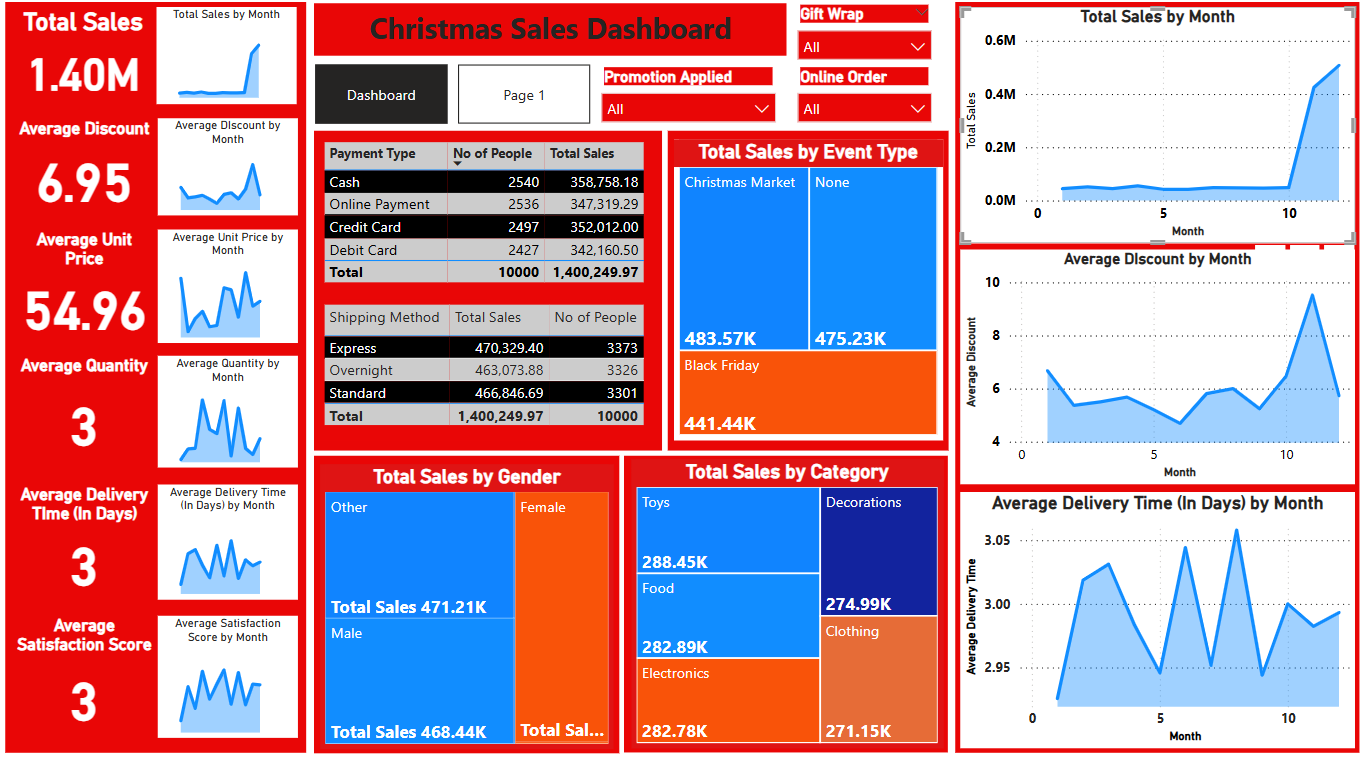

What the dashboard file says about the page in this screenshot:
{"tool":"powerbi","page":{"name":"Dashboard","canvas":[1280,720],"ordinal":0},"visuals":[{"type":"shape","box":[11,9.6,279.9,698.5],"z":0},{"type":"shape","box":[894.7,9.6,376,698.5],"z":1000},{"type":"shape","box":[586.2,431.2,301.2,276.2],"z":2000},{"type":"shape","box":[297.5,128.8,323.8,297.5],"z":3000},{"type":"shape","box":[626.2,128.8,261.2,297.5],"z":4000},{"type":"shape","box":[297.8,430.9,284,277.2],"z":5000},{"type":"card","title":"Total Sales","fields":{"Values":["Sum(dataset.Total Sales)"]},"box":[15.1,13.7,135.8,90.6],"z":6000},{"type":"areaChart","title":"Total Sales by Month","fields":{"Y":["Sum(dataset.Total Sales)"],"Category":["dataset.Month"]},"box":[150.9,13.7,130.4,90.6],"z":7000},{"type":"card","title":"Average Discount","fields":{"Values":["Measure Table.Average Discount"]},"box":[16.5,117,135.8,90.6],"z":8000},{"type":"areaChart","title":"Average DIscount by Month","fields":{"Category":["dataset.Month"],"Y":["Measure Table.Average Discount"]},"box":[152.3,117,130.4,90.6],"z":9000},{"type":"card","title":"Average Unit Price","fields":{"Values":["Measure Table.Average Unit Price"]},"box":[16.5,220.9,135.8,105.7],"z":10000},{"type":"areaChart","title":"Average Unit Price by Month","fields":{"Category":["dataset.Month"],"Y":["Measure Table.Average Unit Price"]},"box":[152.3,220.9,130.4,105.7],"z":11000},{"type":"card","title":"Average Quantity","fields":{"Values":["Measure Table.Average Quantity"]},"box":[16.5,338.9,135.8,104.3],"z":12000},{"type":"areaChart","title":"Average Quantity by Month","fields":{"Category":["dataset.Month"],"Y":["Measure Table.Average Quantity"]},"box":[152.3,338.9,130.4,104.3],"z":13000},{"type":"card","title":"Average Delivery TIme (In Days)","fields":{"Values":["Measure Table.Average Delivery Time"]},"box":[16.5,458.3,135.8,107],"z":14000},{"type":"areaChart","title":"Average Delivery Time (In Days) by Month","fields":{"Category":["dataset.Month"],"Y":["Measure Table.Average Delivery Time"]},"box":[152.3,458.3,130.4,107],"z":15000},{"type":"card","title":"Average Satisfaction Score","fields":{"Values":["Measure Table.Average Satisfaction Score"]},"box":[16.5,580.4,135.8,113.9],"z":16000},{"type":"areaChart","title":"Average Satisfaction Score by Month","fields":{"Category":["dataset.Month"],"Y":["Measure Table.Average Satisfaction Score"]},"box":[152.3,580.4,130.4,113.9],"z":17000},{"type":"treemap","title":"Total Sales by Category","fields":{"Group":["dataset.Category"],"Values":["Sum(dataset.Total Sales)"]},"box":[592.5,435,290,268.8],"z":18000},{"type":"treemap","title":"Total Sales by Gender","fields":{"Group":["dataset.Gender"],"Values":["Sum(dataset.Total Sales)","CountNonNull(dataset.Transaction ID)"]},"box":[303.3,439.1,273.1,264.8],"z":19000},{"type":"treemap","title":"Total Sales by Event Type","fields":{"Group":["dataset.Event"],"Values":["Sum(dataset.Total Sales)"]},"box":[632.5,137.5,250,280],"z":20000},{"type":"areaChart","title":"Total Sales by Month","fields":{"Y":["Sum(dataset.Total Sales)"],"Category":["dataset.Month"]},"box":[898.8,13.8,367.5,220],"z":21000},{"type":"areaChart","title":"Average DIscount by Month","fields":{"Category":["dataset.Month"],"Y":["Measure Table.Average Discount"]},"box":[898.8,240,367.5,218.8],"z":22000},{"type":"areaChart","title":"Average Delivery Time (In Days) by Month","fields":{"Category":["dataset.Month"],"Y":["Measure Table.Average Delivery Time"]},"box":[898.8,465,367.5,238.8],"z":23000},{"type":"tableEx","title":"Total Sales by Gender","fields":{"Values":["dataset.Payment Type","dataset.Transaction ID","Sum(dataset.Total Sales)"]},"box":[301.2,135,313.8,145],"z":24000},{"type":"tableEx","fields":{"Values":["dataset.Shipping Method","Sum(dataset.Total Sales)","dataset.Transaction ID"]},"box":[301.2,286.2,313.8,131.2],"z":25000},{"type":"textbox","box":[297.5,10,440,48.8],"z":26000},{"type":"slicer","fields":{"Values":["dataset.Gift Wrap"]},"box":[737.5,7.5,145,58.8],"z":27000},{"type":"slicer","fields":{"Values":["dataset.Promotion Applied"]},"box":[555,65,182.5,58.8],"z":28000},{"type":"slicer","fields":{"Values":["dataset.Online Order Flag"]},"box":[737.5,65,145,58.8],"z":29000},{"type":"pageNavigator","box":[298.8,67.5,257.5,55],"z":29001}]}

Visuals, with their boxes in screenshot pixels (x1, y1, x2, y2), scaled from the page's 1280x720 canvas onto the 1368x761 screenshot:
shape: (12,10,311,748)
shape: (956,10,1358,748)
shape: (627,456,948,748)
shape: (318,136,664,451)
shape: (669,136,948,451)
shape: (318,455,622,748)
"Total Sales" card: (16,14,161,110)
"Total Sales by Month" areaChart: (161,14,301,110)
"Average Discount" card: (18,124,163,219)
"Average DIscount by Month" areaChart: (163,124,302,219)
"Average Unit Price" card: (18,233,163,345)
"Average Unit Price by Month" areaChart: (163,233,302,345)
"Average Quantity" card: (18,358,163,468)
"Average Quantity by Month" areaChart: (163,358,302,468)
"Average Delivery TIme (In Days)" card: (18,484,163,597)
"Average Delivery Time (In Days) by Month" areaChart: (163,484,302,597)
"Average Satisfaction Score" card: (18,613,163,734)
"Average Satisfaction Score by Month" areaChart: (163,613,302,734)
"Total Sales by Category" treemap: (633,460,943,744)
"Total Sales by Gender" treemap: (324,464,616,744)
"Total Sales by Event Type" treemap: (676,145,943,441)
"Total Sales by Month" areaChart: (961,15,1353,247)
"Average DIscount by Month" areaChart: (961,254,1353,485)
"Average Delivery Time (In Days) by Month" areaChart: (961,491,1353,744)
"Total Sales by Gender" tableEx: (322,143,657,296)
tableEx - dataset.Shipping Method x Sum(dataset.Total Sales): (322,302,657,441)
textbox: (318,11,788,62)
slicer - dataset.Gift Wrap: (788,8,943,70)
slicer - dataset.Promotion Applied: (593,69,788,131)
slicer - dataset.Online Order Flag: (788,69,943,131)
pageNavigator: (319,71,595,129)
